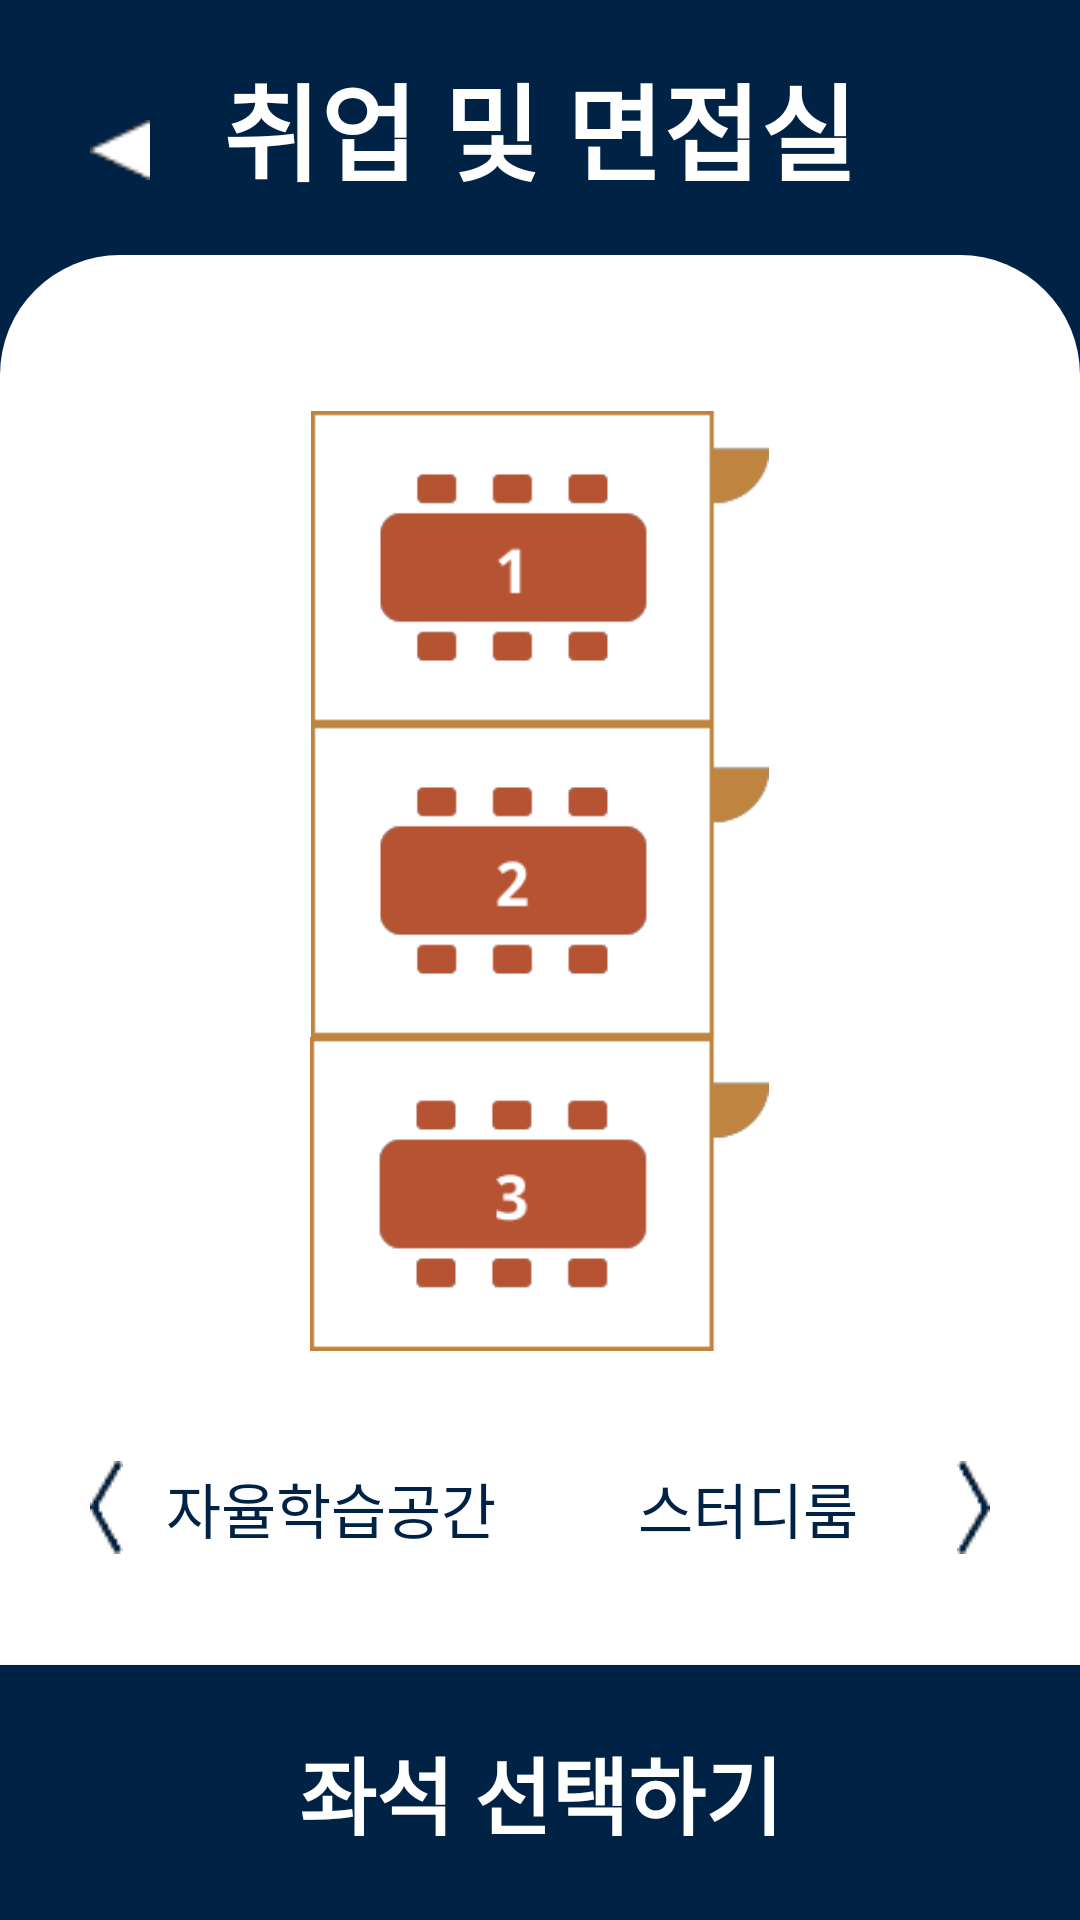

Named icons in this screenshot (1080x1920) and their centers, [x,y]:
back arrow resize: [120,150]
